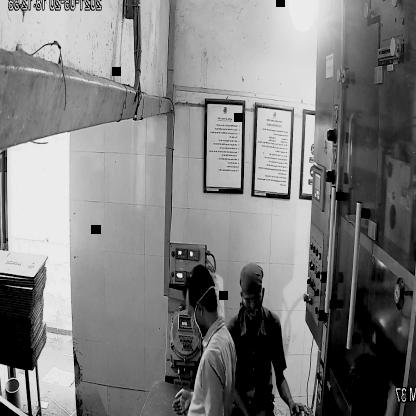goggles: (240, 287, 265, 309)
